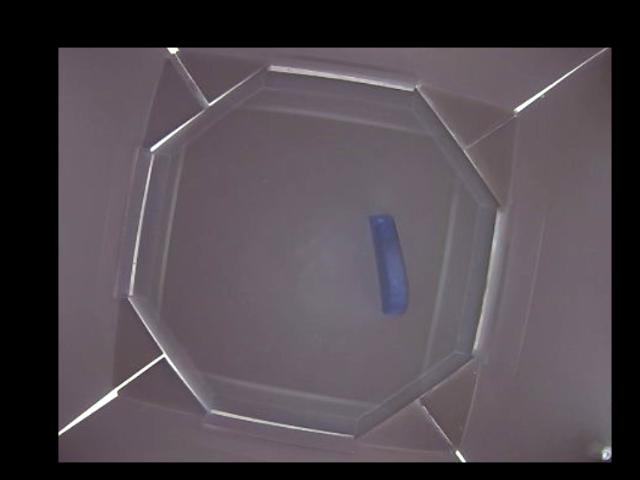Mooli: (370, 214, 411, 314)
